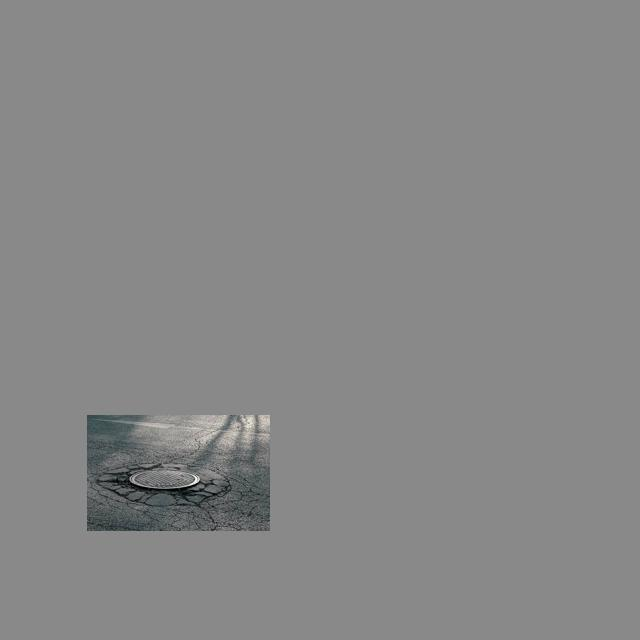circle: (108, 461, 235, 512)
